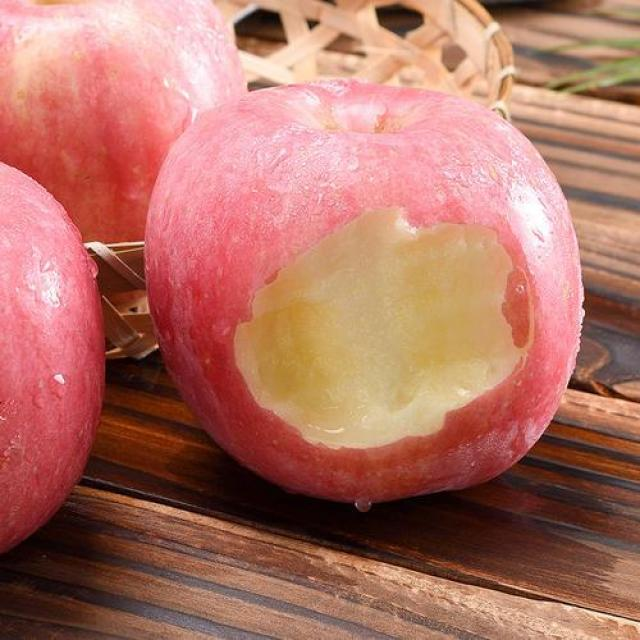Rotten: (143, 84, 582, 499)
